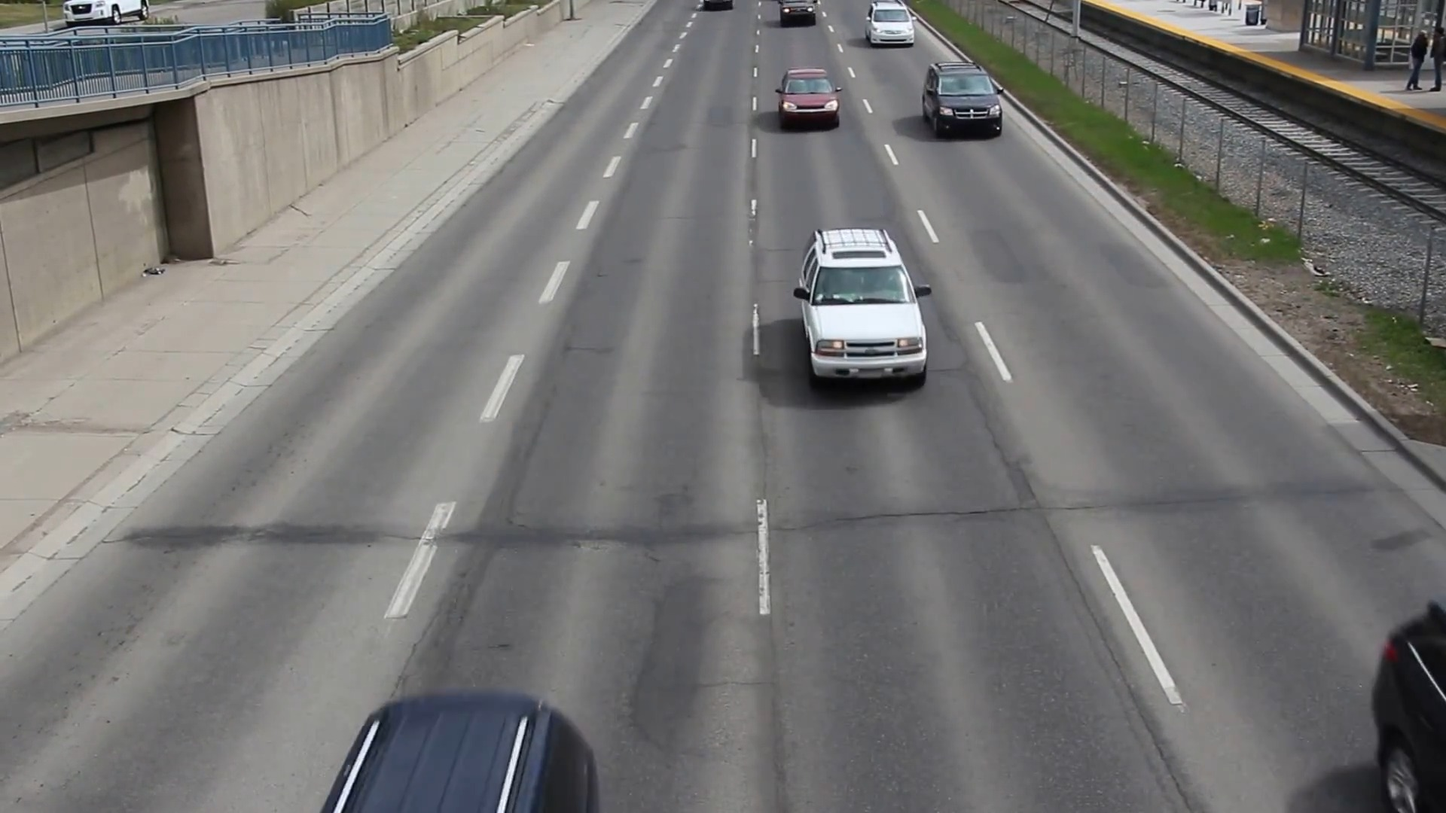car: (799, 226, 932, 392), (915, 61, 1006, 137), (772, 66, 846, 130)
